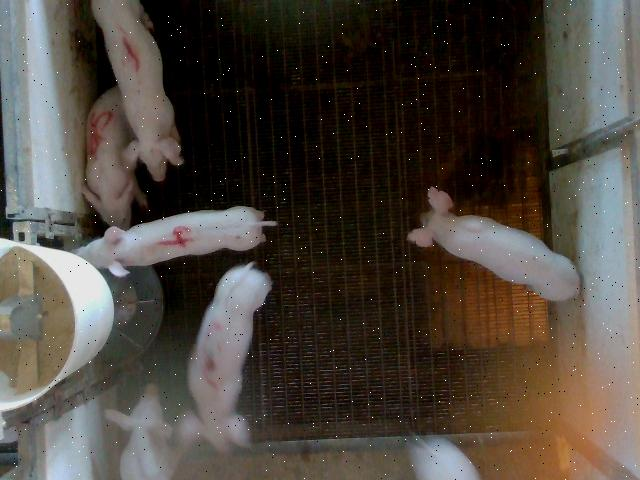pig-1: (92, 0, 182, 181)
pig-3: (179, 262, 271, 452)
pig-4: (75, 206, 276, 276)
pig-5: (82, 86, 146, 229)
